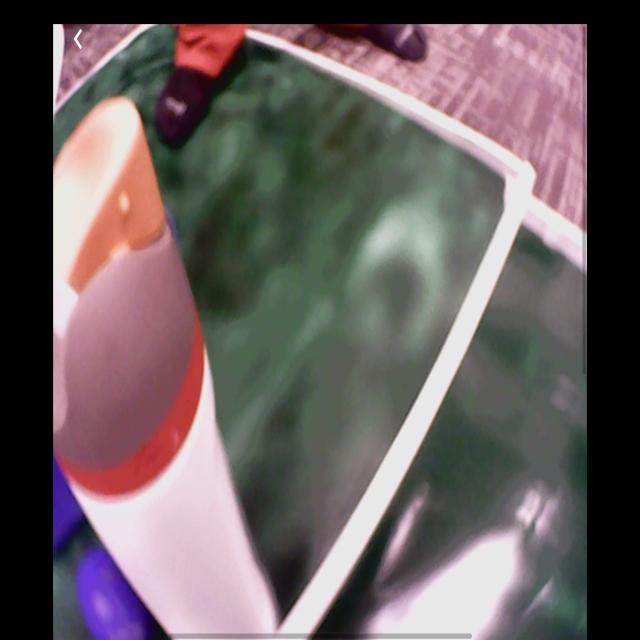ball: (78, 545, 152, 640)
